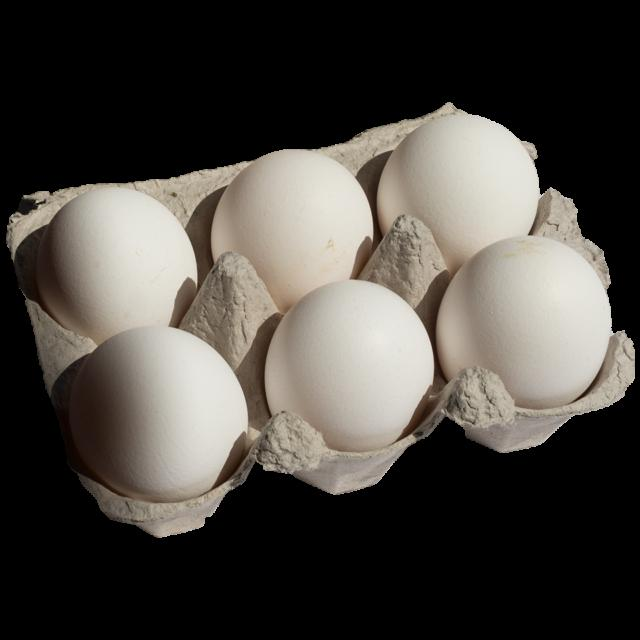Egg: (51, 175, 632, 452)
